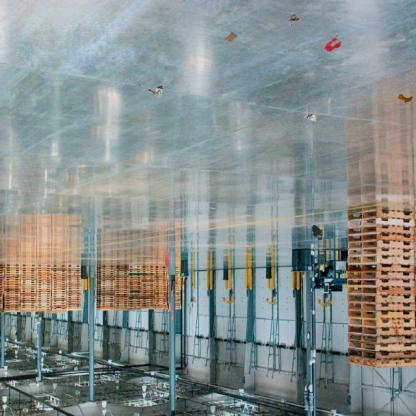dirty: (146, 84, 166, 99), (302, 109, 318, 124), (396, 92, 413, 106), (286, 13, 300, 28), (224, 30, 236, 42)
liquid: (324, 34, 342, 52), (311, 223, 323, 240)
